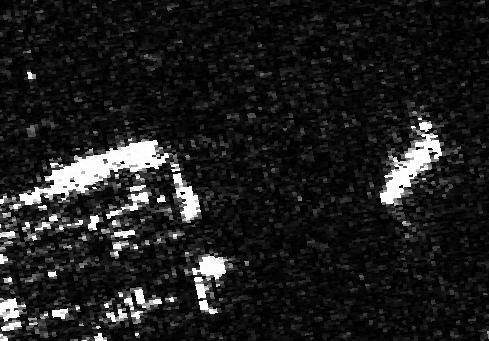ship: (48, 139, 161, 192), (378, 126, 445, 207)
